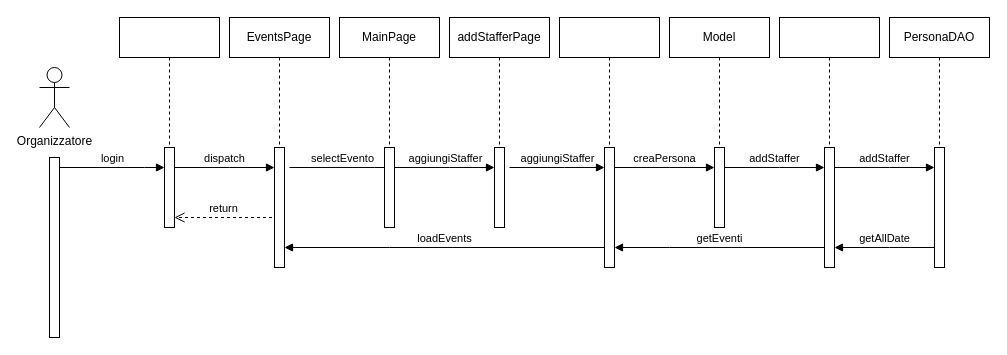
This 1007x355 diagram has some shape labels left out. The shapes that lost their labels are listed below. From the top down, each one's centre as x and y in pixels, then its label:
[169,122]: LoginPage
[609,122]: Controller
[829,122]: Persistance
